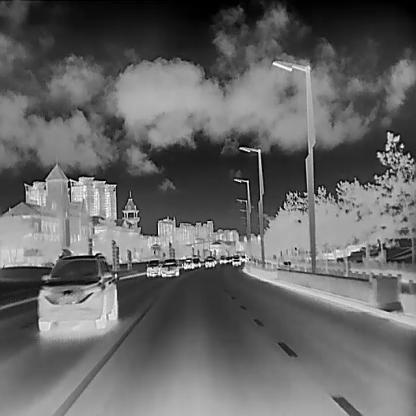car: (37, 248, 116, 331), (160, 257, 179, 277), (146, 258, 162, 276), (181, 257, 194, 268), (204, 255, 215, 267), (231, 253, 241, 264), (218, 253, 227, 263), (192, 257, 200, 267), (225, 255, 231, 261), (241, 255, 246, 262)
